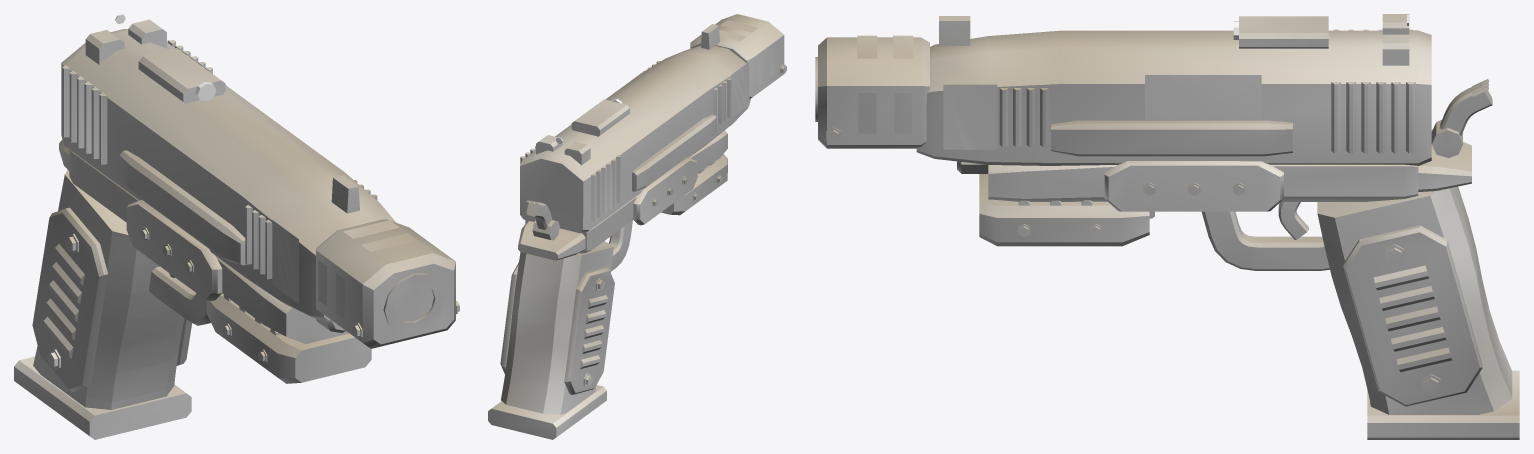
The model's file is hand-cannon-h-left.glb.
3 renders of one model, left to right at view 1: azimuth 30°, elevation 25°; view 2: azimuth 150°, elevation 25°; view 3: azimuth 270°, elevation 25°, orthographic. The views are drawn at different scales.
Parts seen in each view (by area): view 1: Body, Slide, Barrel; view 2: Body, Slide, Barrel, Hammer; view 3: Body, Slide, Barrel, Hammer.
Part boxes in pixels (left/top/right/bottom): Body: left=14, top=139, right=371, bottom=439; Slide: left=61, top=14, right=395, bottom=320; Barrel: left=316, top=219, right=459, bottom=348; Body: left=488, top=130, right=727, bottom=439; Slide: left=520, top=24, right=750, bottom=232; Barrel: left=690, top=14, right=786, bottom=98; Hammer: left=526, top=200, right=559, bottom=240; Body: left=957, top=129, right=1519, bottom=439; Slide: left=916, top=14, right=1431, bottom=165; Barrel: left=815, top=35, right=929, bottom=148; Hammer: left=1431, top=79, right=1492, bottom=157.
Bounding box in the file's own units: 0.3665 × 1.13 × 1.8.
